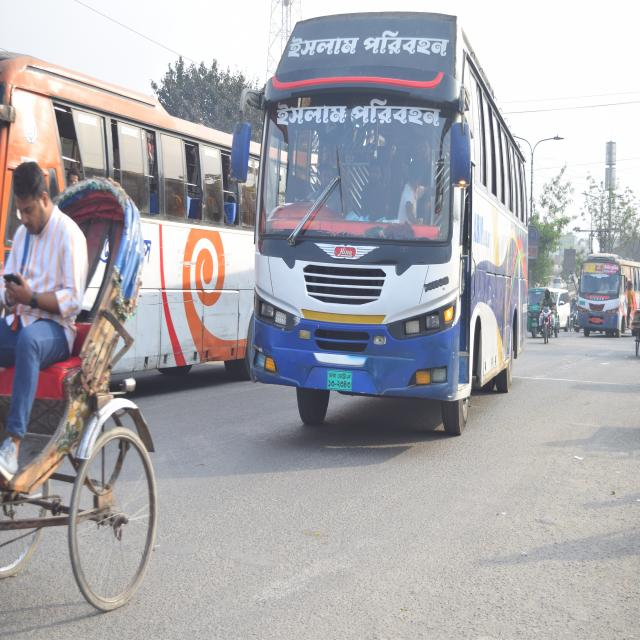bus: (239, 4, 537, 454), (0, 49, 256, 394), (578, 252, 631, 342)
motorbike: (534, 300, 560, 354)
